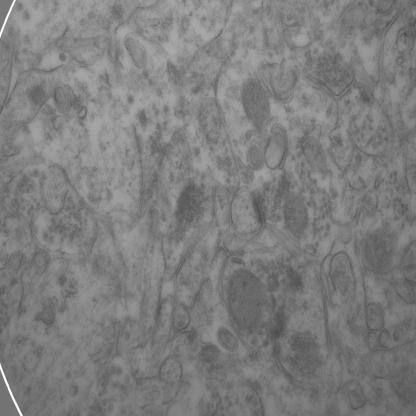mitochondria: (229, 269, 275, 336), (236, 77, 274, 125), (280, 190, 312, 244), (288, 331, 322, 379)
